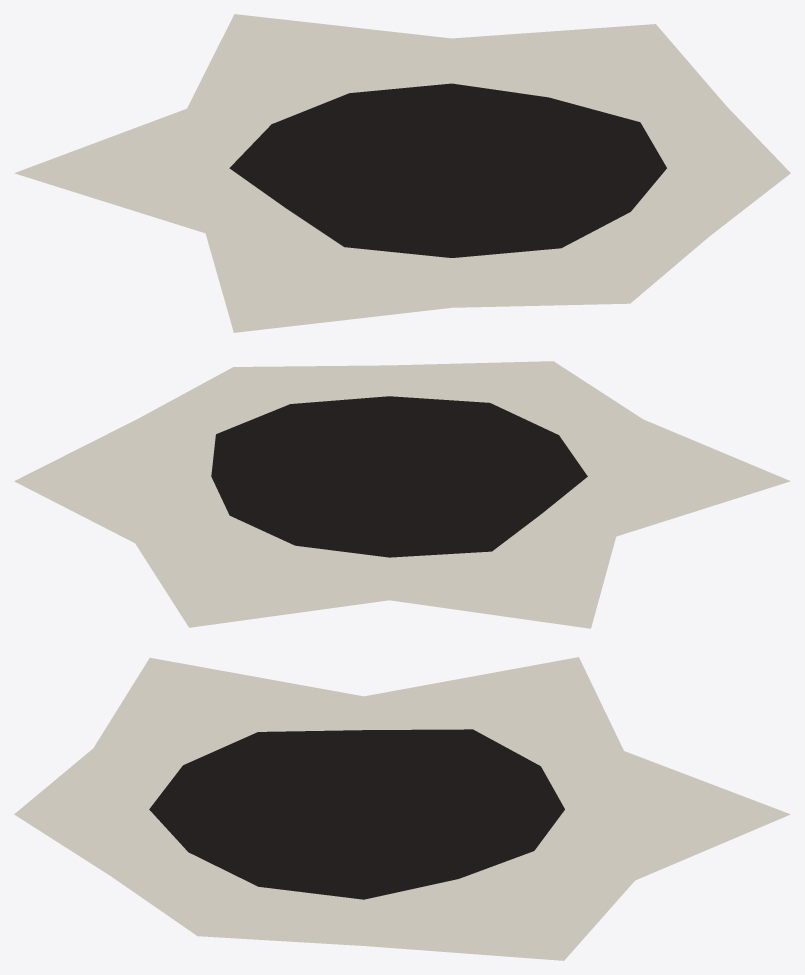
File: hole_wall_07.obj
The picture shows the model from 3 angles, top to bottom: view 1: azimuth 30°, elevation 25°; view 2: azimuth 150°, elevation 25°; view 3: azimuth 270°, elevation 25°; orthographic projection. The views are drawn at different scales.
Size of the model in its own units: 0.0524 by 0.0004 by 0.0566.
